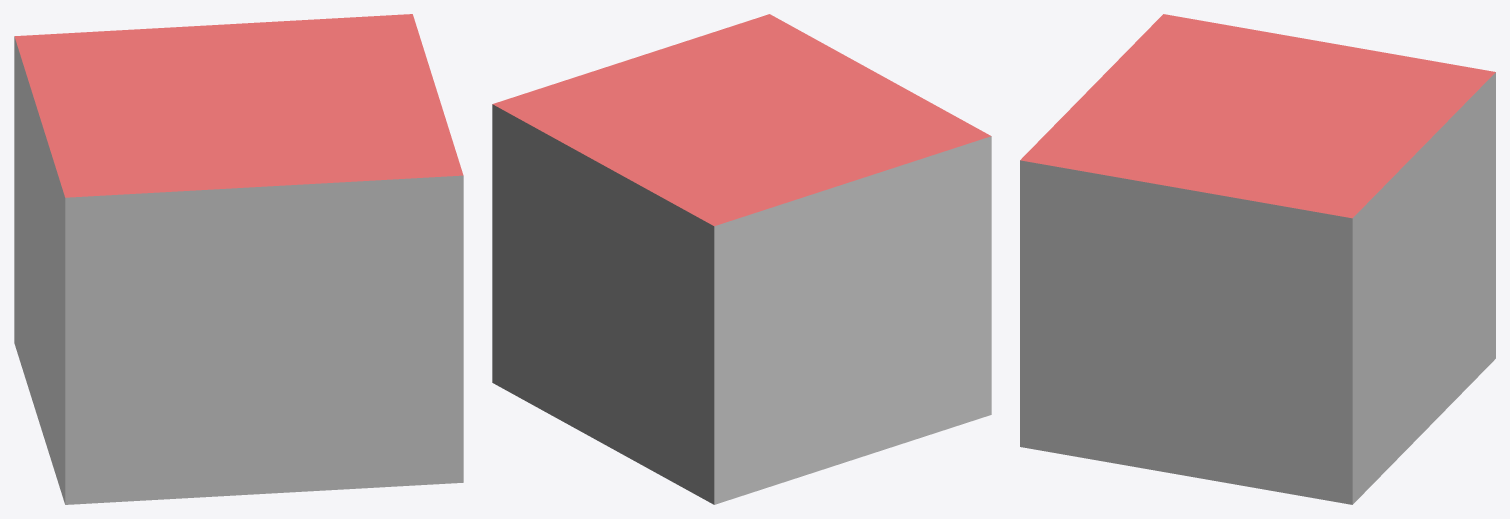
Rendered from DEBY_LOD2_8568392.gltf.
3 renders of one model, left to right at view 1: azimuth 30°, elevation 25°; view 2: azimuth 150°, elevation 25°; view 3: azimuth 270°, elevation 25°, orthographic. The views are drawn at different scales.
Visible parts, largest first — view 1: Z_UP; view 2: Z_UP; view 3: Z_UP.
Boxes of the visible parts, x1=… form: Z_UP: x1=14, y1=14, x2=463, y2=504; Z_UP: x1=492, y1=14, x2=991, y2=504; Z_UP: x1=1020, y1=14, x2=1495, y2=504.
Bounding box in the file's own units: 3.17 × 2.07 × 3.12.
